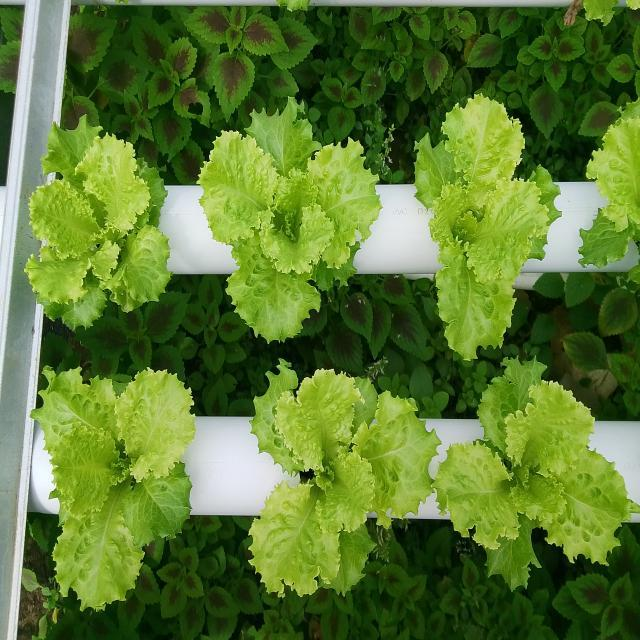Baby: (429, 358, 638, 589), (198, 98, 381, 342), (250, 364, 440, 596), (31, 366, 195, 610), (415, 94, 560, 359), (25, 116, 171, 331)
